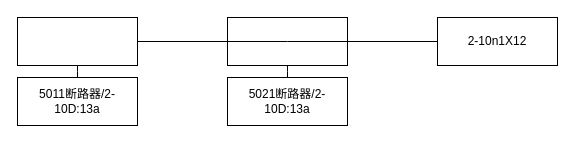
Some shapes in this 575 by 143 pixel diagram are drawn without their labels. The centre of each missing label's shape, as x and y in pixels:
5011断路器/2-10D:13: (x=77, y=41)
5021断路器/2-10D:13: (x=287, y=41)
